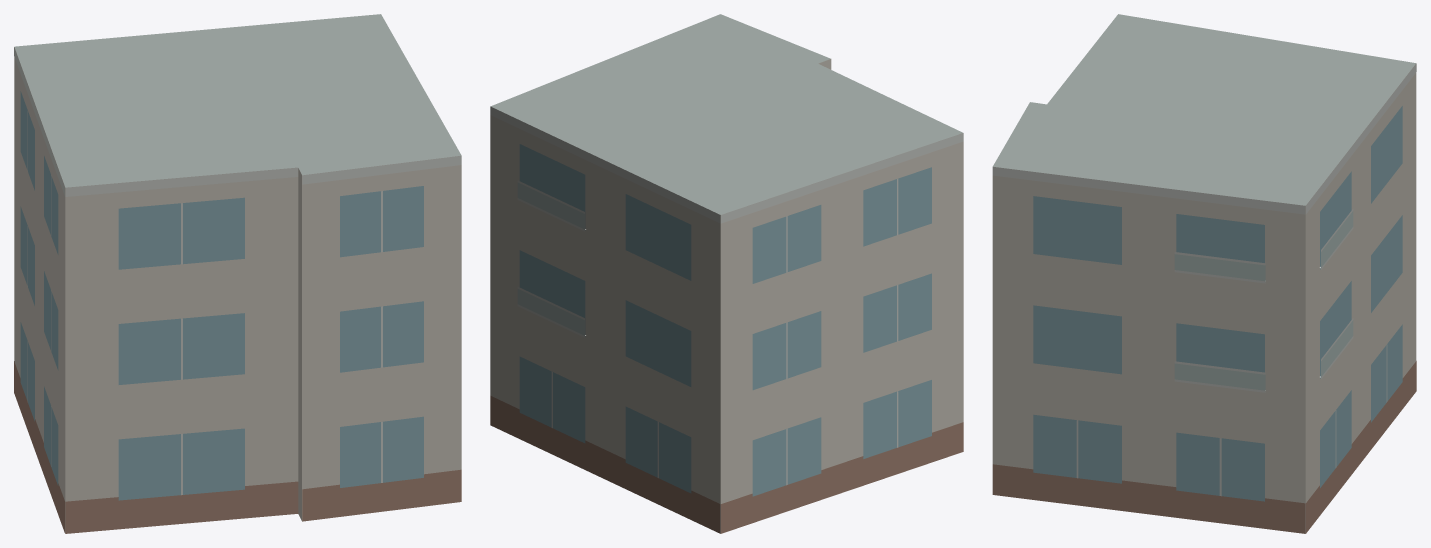
Rendered from survey-upis-32658871.glb.
3 views of the same model, side by side, from view 1: azimuth 30°, elevation 25°; view 2: azimuth 150°, elevation 25°; view 3: azimuth 270°, elevation 25° (orthographic). The views are drawn at different scales.
Parts seen in each view (by area): view 1: survey-upis-32658871.tmp; view 2: survey-upis-32658871.tmp; view 3: survey-upis-32658871.tmp.
Boxes of the visible parts, x1,y1,x2,y2 form: survey-upis-32658871.tmp: (14,14,461,533); survey-upis-32658871.tmp: (490,14,963,533); survey-upis-32658871.tmp: (992,14,1416,533).
Size of the model in its own units: 11.29 by 9 by 10.55.
